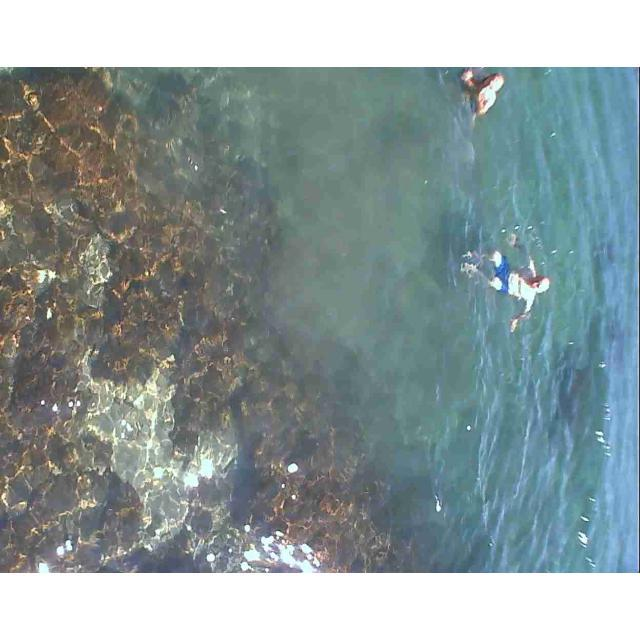human: (472, 230, 550, 331), (460, 67, 517, 145)
